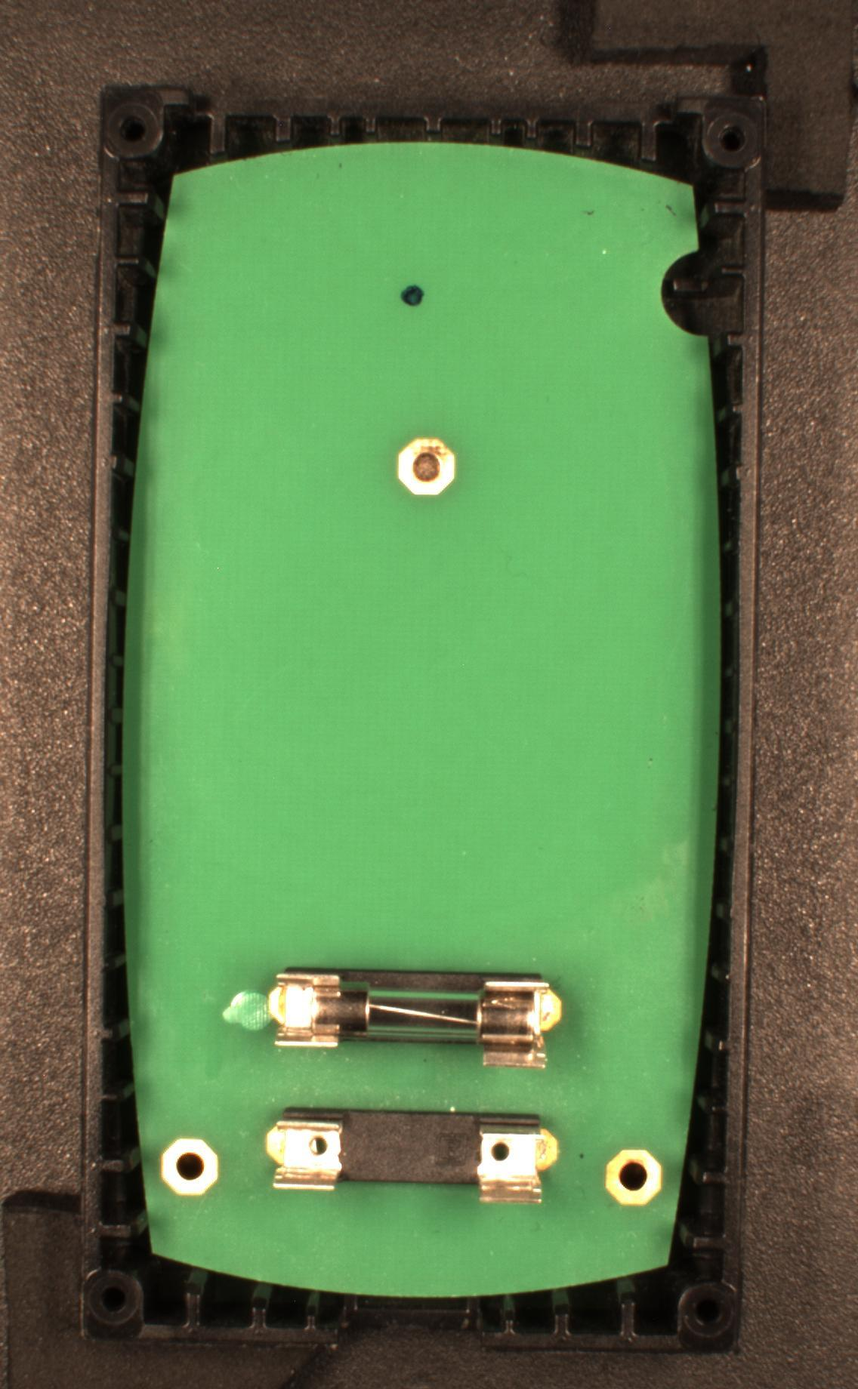Nepostojanje osiguraca: (262, 1104, 560, 1206)
Tockasto Ostecenje: (397, 282, 426, 308)
